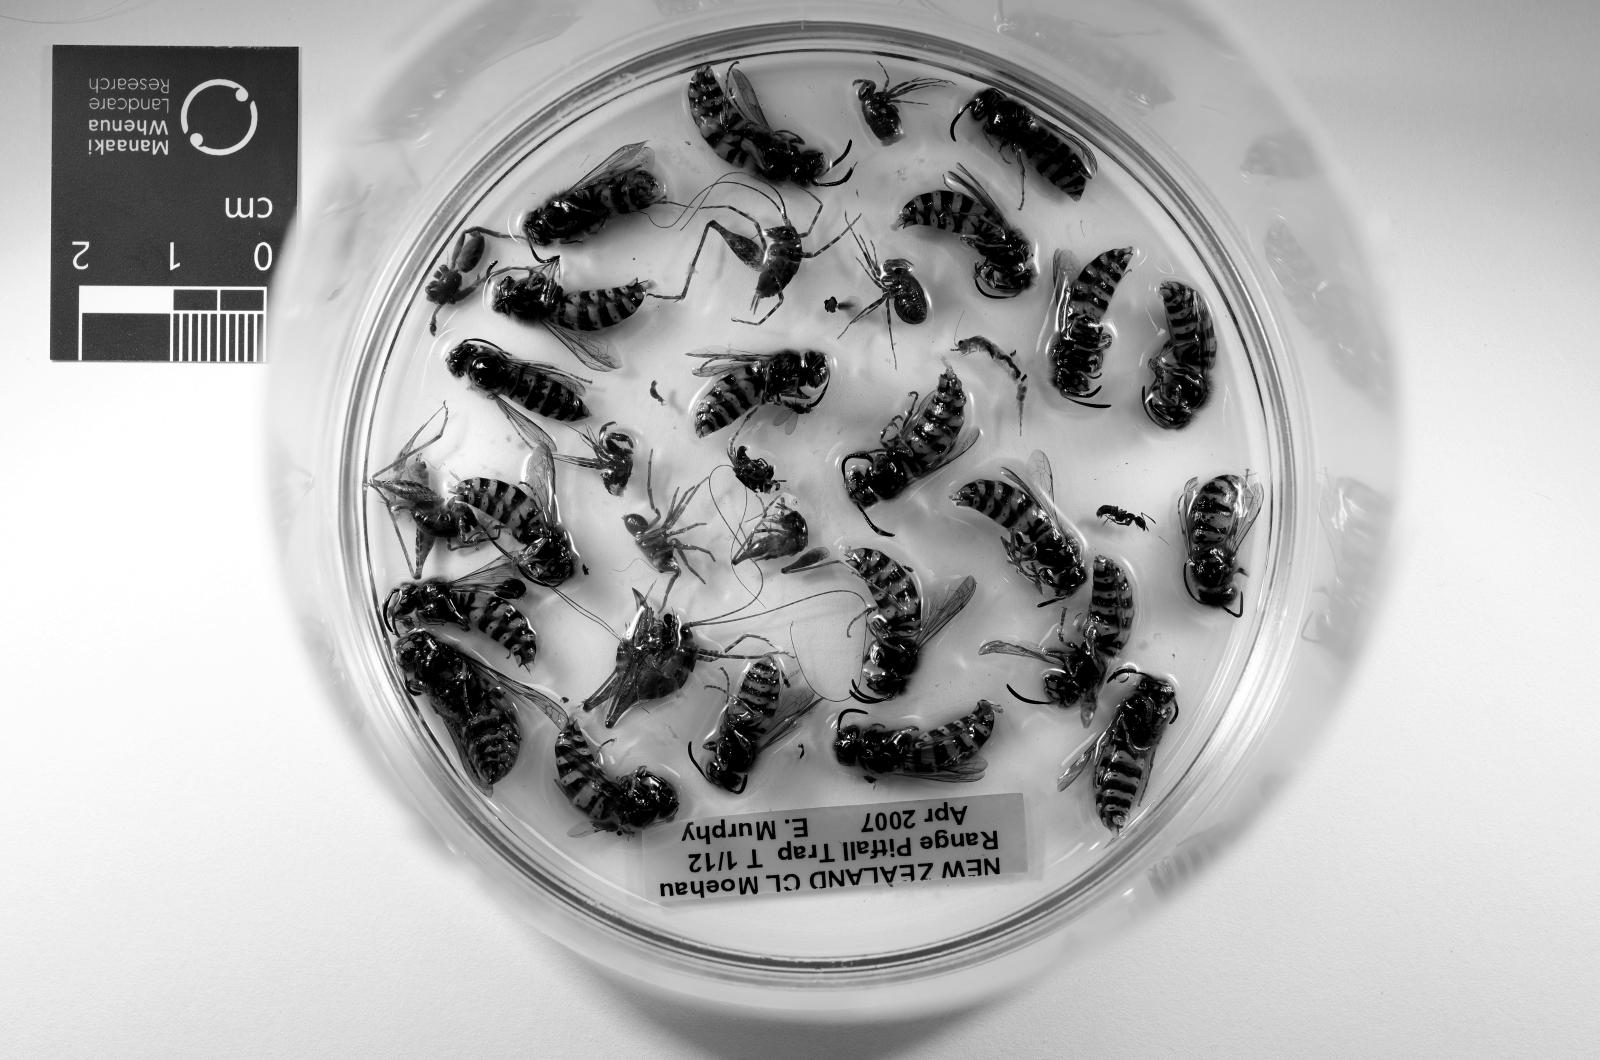araneae: (622, 451, 710, 577), (425, 227, 510, 308)
formicidae: (1097, 506, 1147, 531)
opiliones: (853, 237, 928, 351), (853, 78, 947, 146), (556, 422, 634, 497)
orthoptera: (584, 590, 734, 726), (369, 426, 497, 577), (706, 193, 818, 319), (731, 497, 807, 565), (656, 230, 706, 302)
vespidae: (982, 556, 1134, 726), (843, 547, 974, 702), (687, 65, 850, 187), (394, 631, 522, 786), (841, 360, 966, 512), (894, 168, 1037, 298), (491, 258, 653, 373), (950, 468, 1088, 602), (453, 444, 582, 587), (447, 338, 590, 457), (381, 562, 538, 667), (700, 655, 816, 791), (963, 88, 1097, 202), (522, 143, 666, 245), (556, 717, 678, 835), (835, 702, 1000, 783), (1094, 674, 1178, 835), (1050, 248, 1132, 401), (1178, 472, 1263, 618), (694, 351, 828, 438), (1141, 283, 1219, 428)
